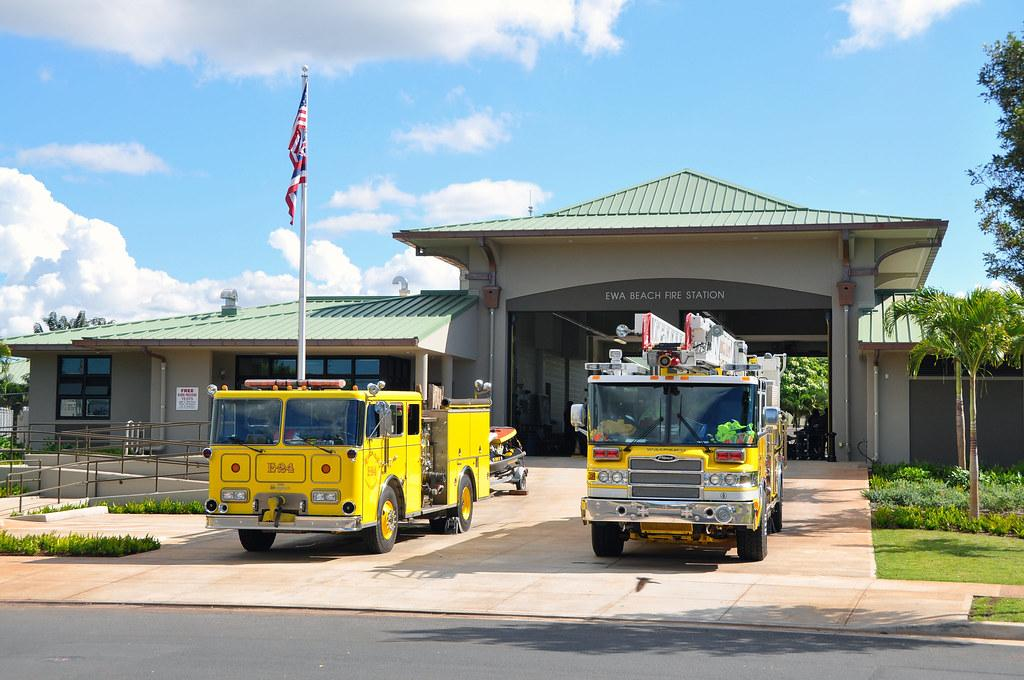firetruck_off: (570, 310, 786, 563), (203, 379, 493, 554)
